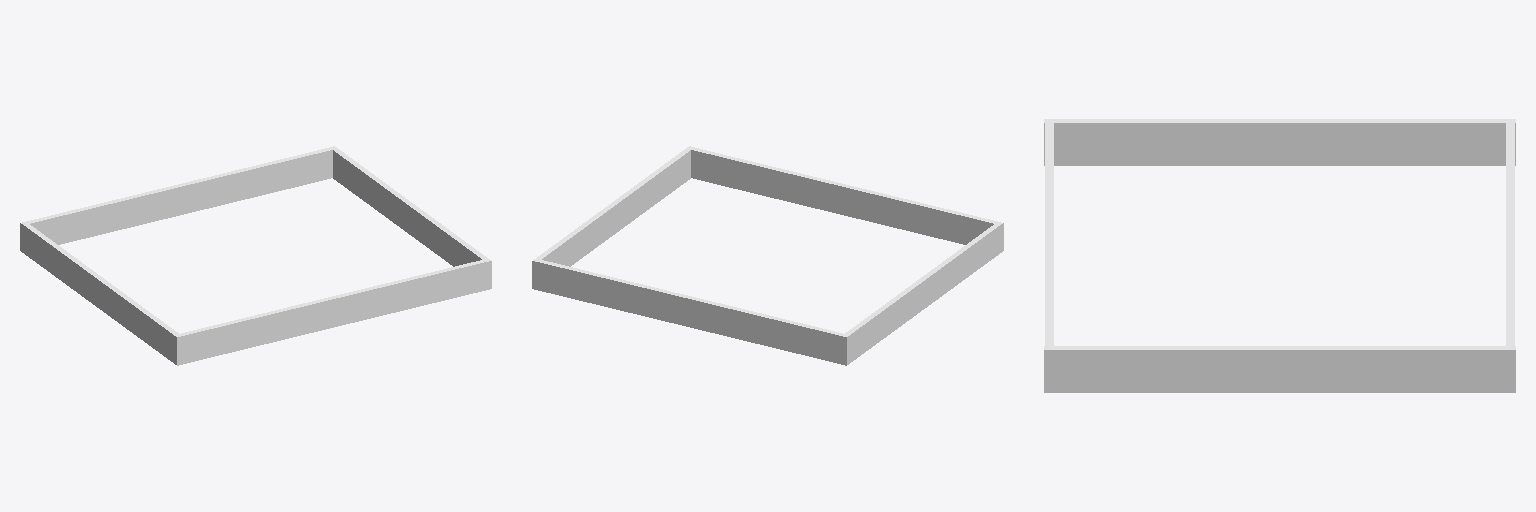
The robot description file, URDF, robot "tabletop":
<?xml version="0.0" ?>
<robot name="tabletop">
  <link name="base_link">

    <inertial>
      <origin rpy="0 0 0" xyz="0 0 0"/>
      <mass value="0"/>
      <inertia ixx="0" ixy="0" ixz="0" iyy="0" iyz="0" izz="0"/>
    </inertial>
    


    <!-- SOUTH -->
    <visual>
      <origin rpy="0 0 0" xyz="0.1 0 0.025"/>
      <geometry>
        <box size=".02 1. .1" />
      </geometry>
      <material name="tray_material">
        <color rgba="1 1 1 1"/>
      </material>
    </visual>

    <!-- NORTH -->
    <visual>
      <origin rpy="0 0 0" xyz="1.2375 0 0.025"/>
      <geometry>
        <box size=".02 1. .1" />
      </geometry>
      <material name="tray_material">
        <color rgba="1 1 1 1"/>
      </material>
    </visual>

    <!-- WEST -->
    <visual>
      <origin rpy="0 0 0" xyz="0.67 -0.489 0.025"/>
      <geometry>
        <box size="1.12 .02 .1" />
      </geometry>
      <material name="tray_material">
        <color rgba="1 1 1 1"/>
      </material>
    </visual>

    <!-- EAST -->
    <visual>
      <origin rpy="0 0 0" xyz="0.67 0.489 0.025"/>
      <geometry>
        <box size="1.12 .02 .1" />
      </geometry>
      <material name="tray_material">
        <color rgba="1 1 1 1"/>
      </material>
    </visual>


    <!-- 
    <collision>
      <origin rpy="0 0 0" xyz="0 0 0.005"/>
      <geometry>
        <box size=".6 .6 .02"/>
      </geometry>
    </collision>
     -->
    <collision>
      <origin rpy="0 0 0" xyz="0.1 0 0.025"/>
      <geometry>
        <box size=".02 1.2 .1" />
      </geometry>
    </collision>
    
    <collision>
      <origin rpy="0 0 0" xyz="1.2375 0 0.025"/>
      <geometry>
        <box size=".02 1.2 .1" />
      </geometry>
    </collision>
    
    <collision>
      <origin rpy="0 0 0" xyz="0.67 -0.489 0.025"/>
      <geometry>
        <box size="1.2 .02 .1" />
      </geometry>
    </collision>
    
    <collision>
      <origin rpy="0 0 0" xyz="0.67 0.489 0.025"/>
      <geometry>
        <box size="1.2 .02 .1" />
      </geometry>
    </collision>

  </link>
</robot>

--- Facts derived from the render (not from the file) ---
Views: 3 orthographic renders of the robot side by side, from view 1: azimuth 30°, elevation 25°; view 2: azimuth 150°, elevation 25°; view 3: azimuth 270°, elevation 25°.
Robot: tabletop — 1 links, 0 joints (none); root link base_link; default pose: all joints at 0.
Links seen in each view (by area): view 1: base_link; view 2: base_link; view 3: base_link.
Boxes of the visible links, x1,y1,x2,y2 form: base_link: (20,146,491,365); base_link: (532,146,1003,365); base_link: (1044,119,1515,392).
Size in the robot's own frame: 1.16 by 1 by 0.1 metres.
Geometry: primitives only (box / cylinder / sphere), no mesh files.